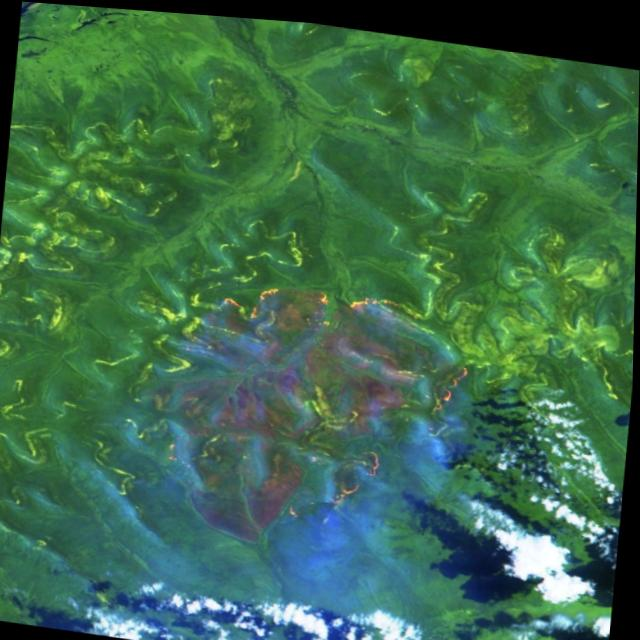fire: (270, 256, 437, 331), (410, 345, 492, 429), (322, 433, 403, 513), (136, 408, 204, 496)
